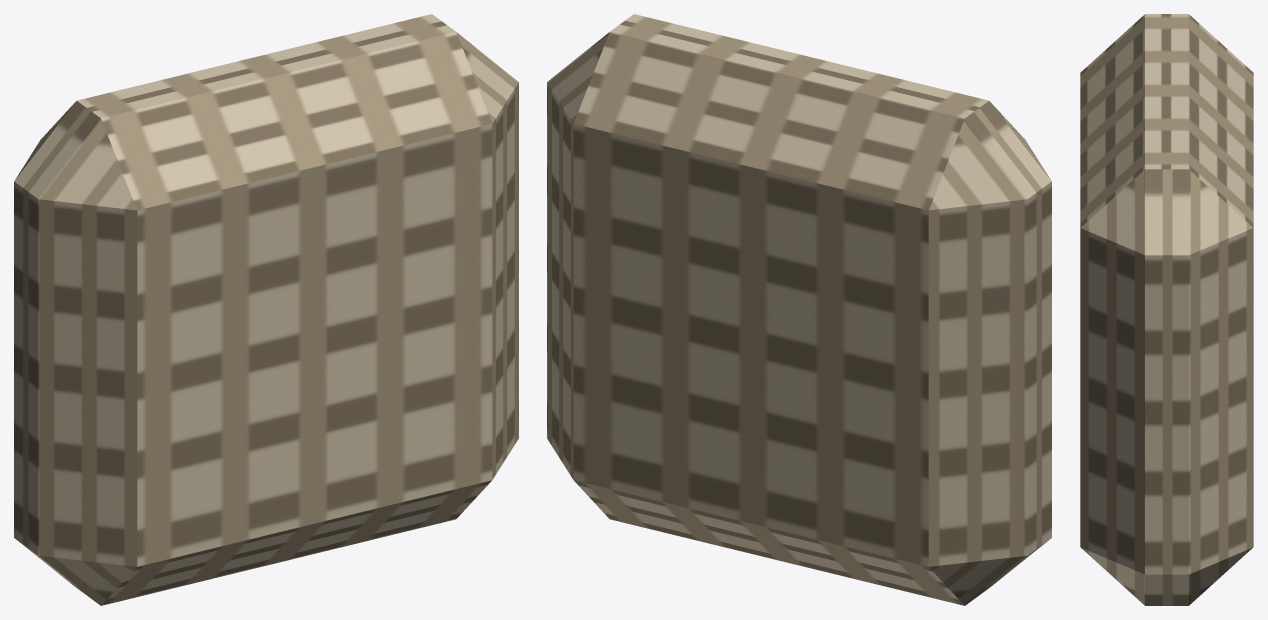
File: cushion.glb
The picture shows the model from 3 angles, left to right: view 1: azimuth 30°, elevation 25°; view 2: azimuth 150°, elevation 25°; view 3: azimuth 270°, elevation 25°; orthographic projection. The views are drawn at different scales.
Visible parts, largest first — view 1: home_cushion; view 2: home_cushion; view 3: home_cushion.
Boxes of the visible parts, bbox=[...] form: home_cushion: bbox=[14, 14, 518, 605]; home_cushion: bbox=[547, 14, 1051, 605]; home_cushion: bbox=[1080, 14, 1253, 605].
Bounding box in the file's own units: 0.33 × 0.32 × 0.115.
Materials: 1 (1 with a texture image).
